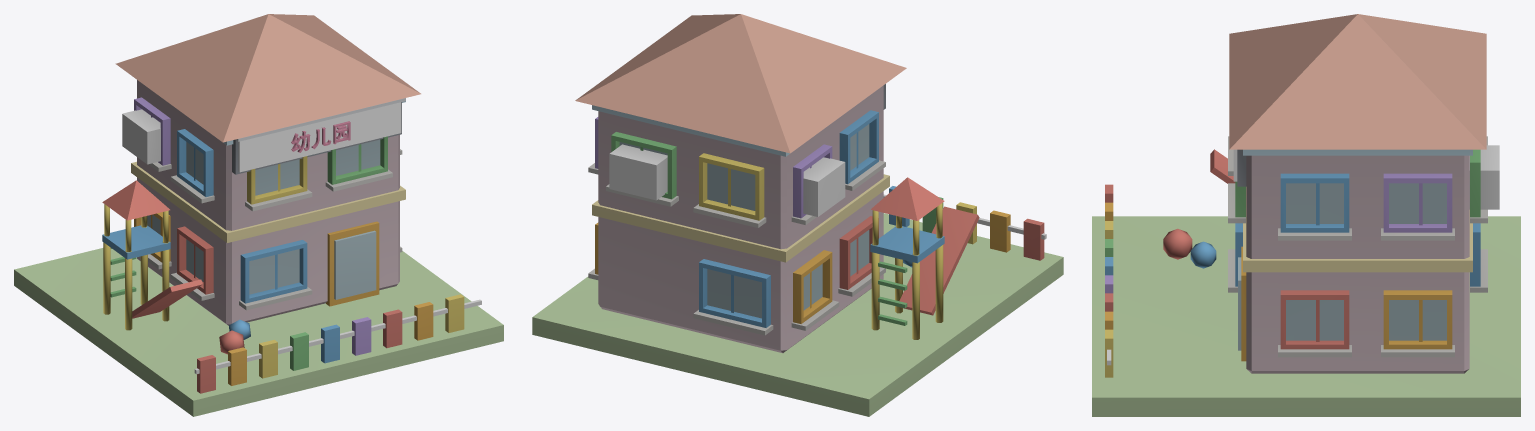
Rendered from kindergarten.glb.
3 views of the same model, side by side, from view 1: azimuth 30°, elevation 25°; view 2: azimuth 150°, elevation 25°; view 3: azimuth 270°, elevation 25° (orthographic). The views are drawn at different scales.
Parts seen in each view (by area): view 1: kindergarten; view 2: kindergarten; view 3: kindergarten.
Part boxes in pixels (<box>): kindergarten: <box>14,14,503,416</box>; kindergarten: <box>532,14,1063,416</box>; kindergarten: <box>1092,14,1520,416</box>.
Size of the model in its own units: 1 by 0.85 by 1.
